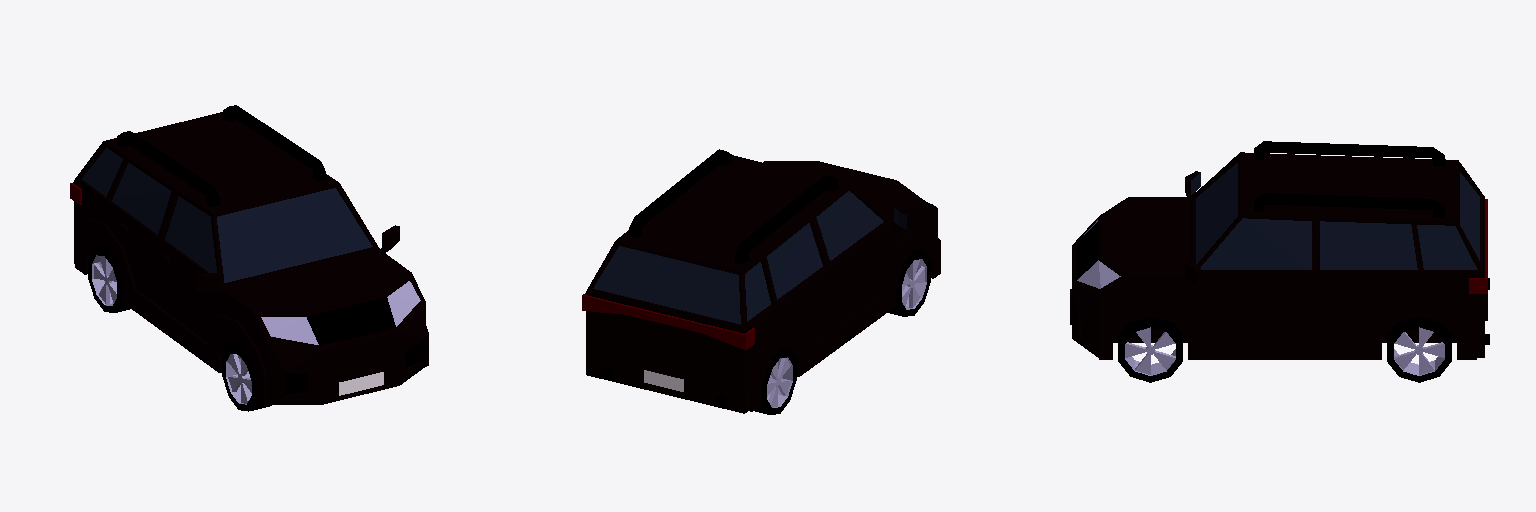
Rendered from suv.obj.
3 renders of one model, left to right at view 1: azimuth 30°, elevation 25°; view 2: azimuth 150°, elevation 25°; view 3: azimuth 270°, elevation 25°, orthographic.
Visible parts, largest first — view 1: SUV; view 2: SUV; view 3: SUV.
Part boxes in pixels (bbox=[...]): SUV: bbox=[70, 105, 428, 411]; SUV: bbox=[582, 149, 940, 414]; SUV: bbox=[1070, 141, 1489, 382].
Bounding box in the file's own units: 2.81 × 2.3 × 5.04.